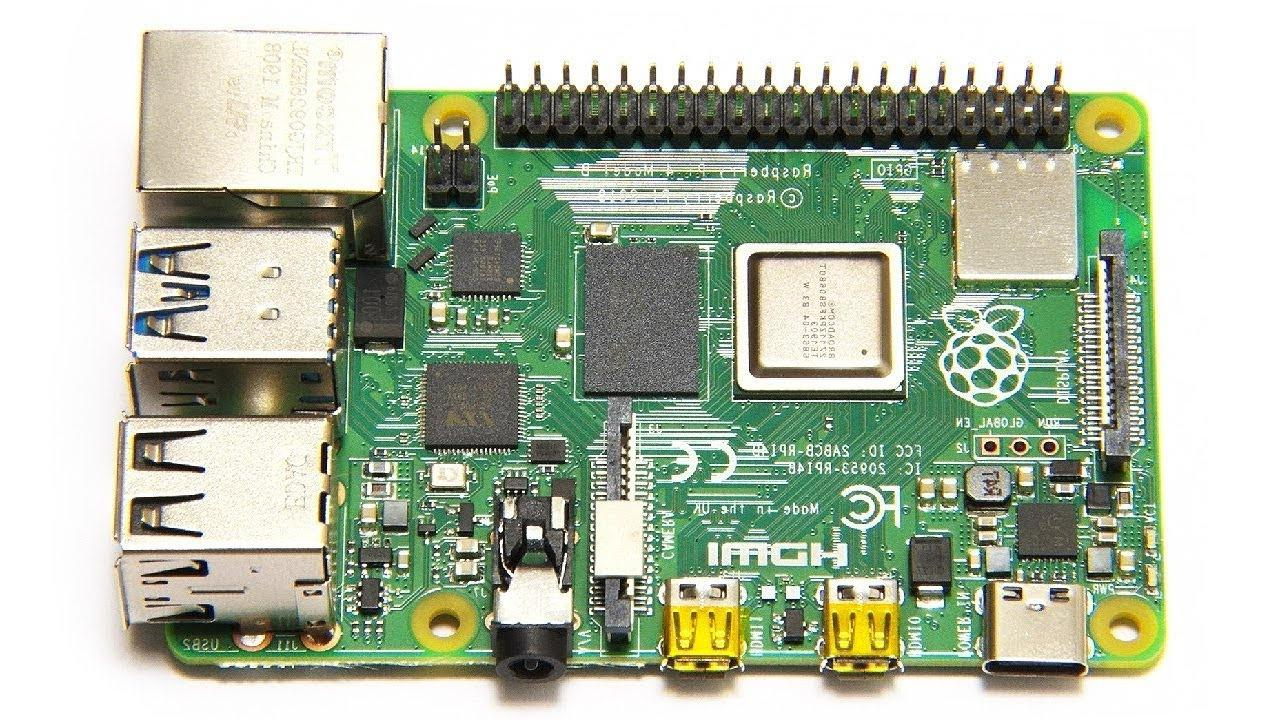audiojack: (485, 474, 578, 682)
bchi: (730, 240, 908, 404)
ethernet: (130, 26, 397, 258)
gpio: (494, 58, 1070, 144)
usb: (118, 412, 338, 634), (129, 229, 347, 406)
